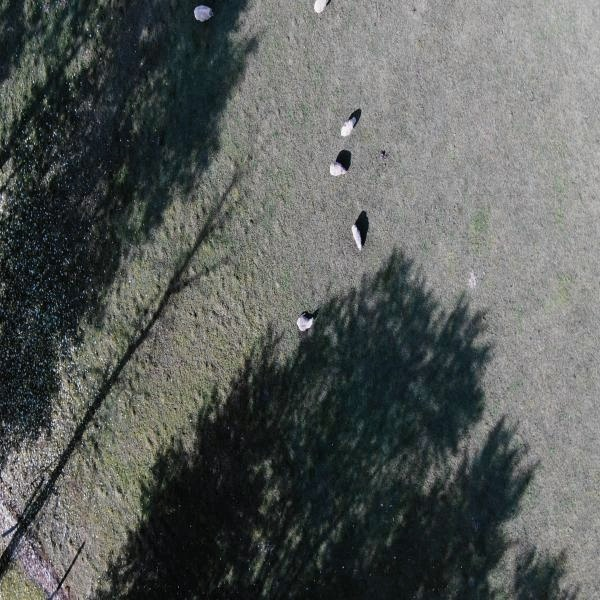sheep: (346, 213, 367, 261), (337, 105, 360, 141), (324, 151, 348, 182), (294, 308, 316, 334), (192, 1, 218, 19), (310, 0, 333, 17)
